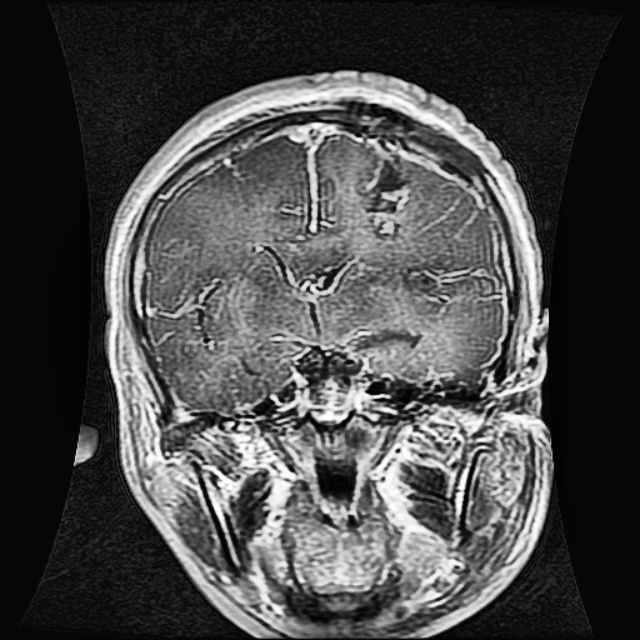Glioma: (353, 139, 413, 239)
